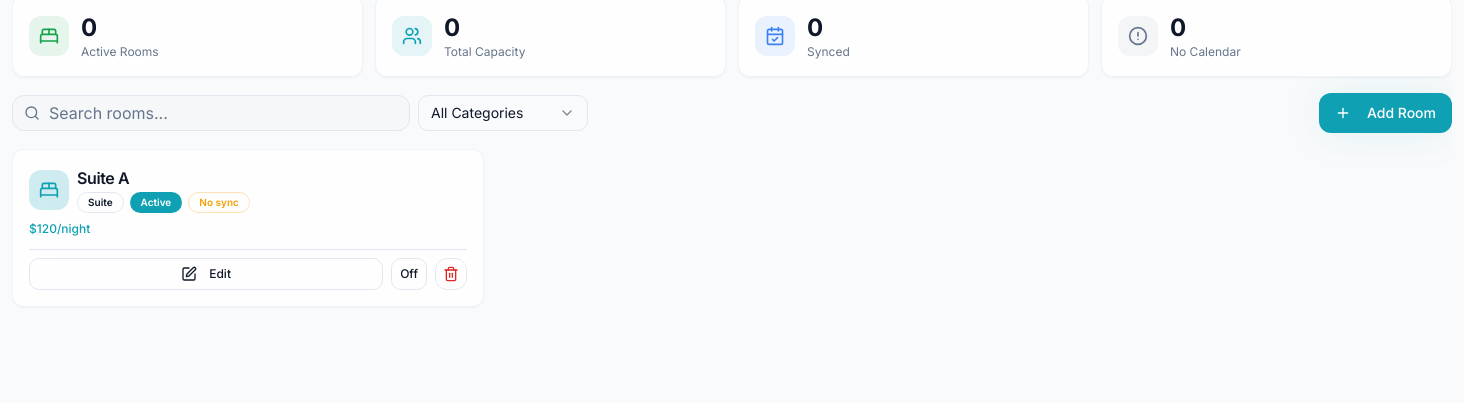
RoomsTabContent targeted behaviors › shows no matching rooms state when filters remove all rooms
Type "unmatched-query" into the field with placeholder "Search rooms..." at (211, 113), box [12, 95, 410, 131]
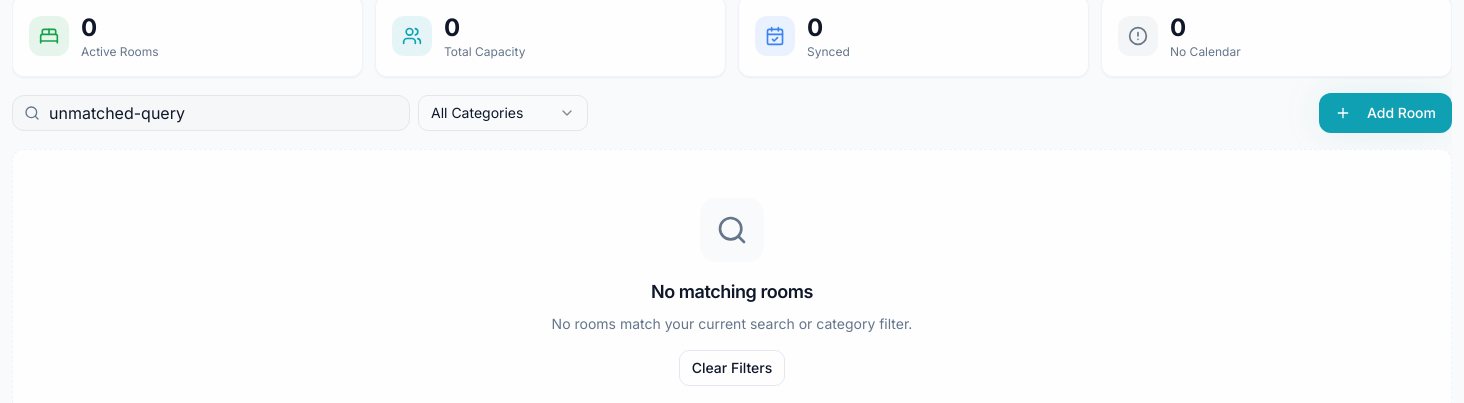
Expected: the heading "No matching rooms" is shown, [651, 281, 813, 302]
